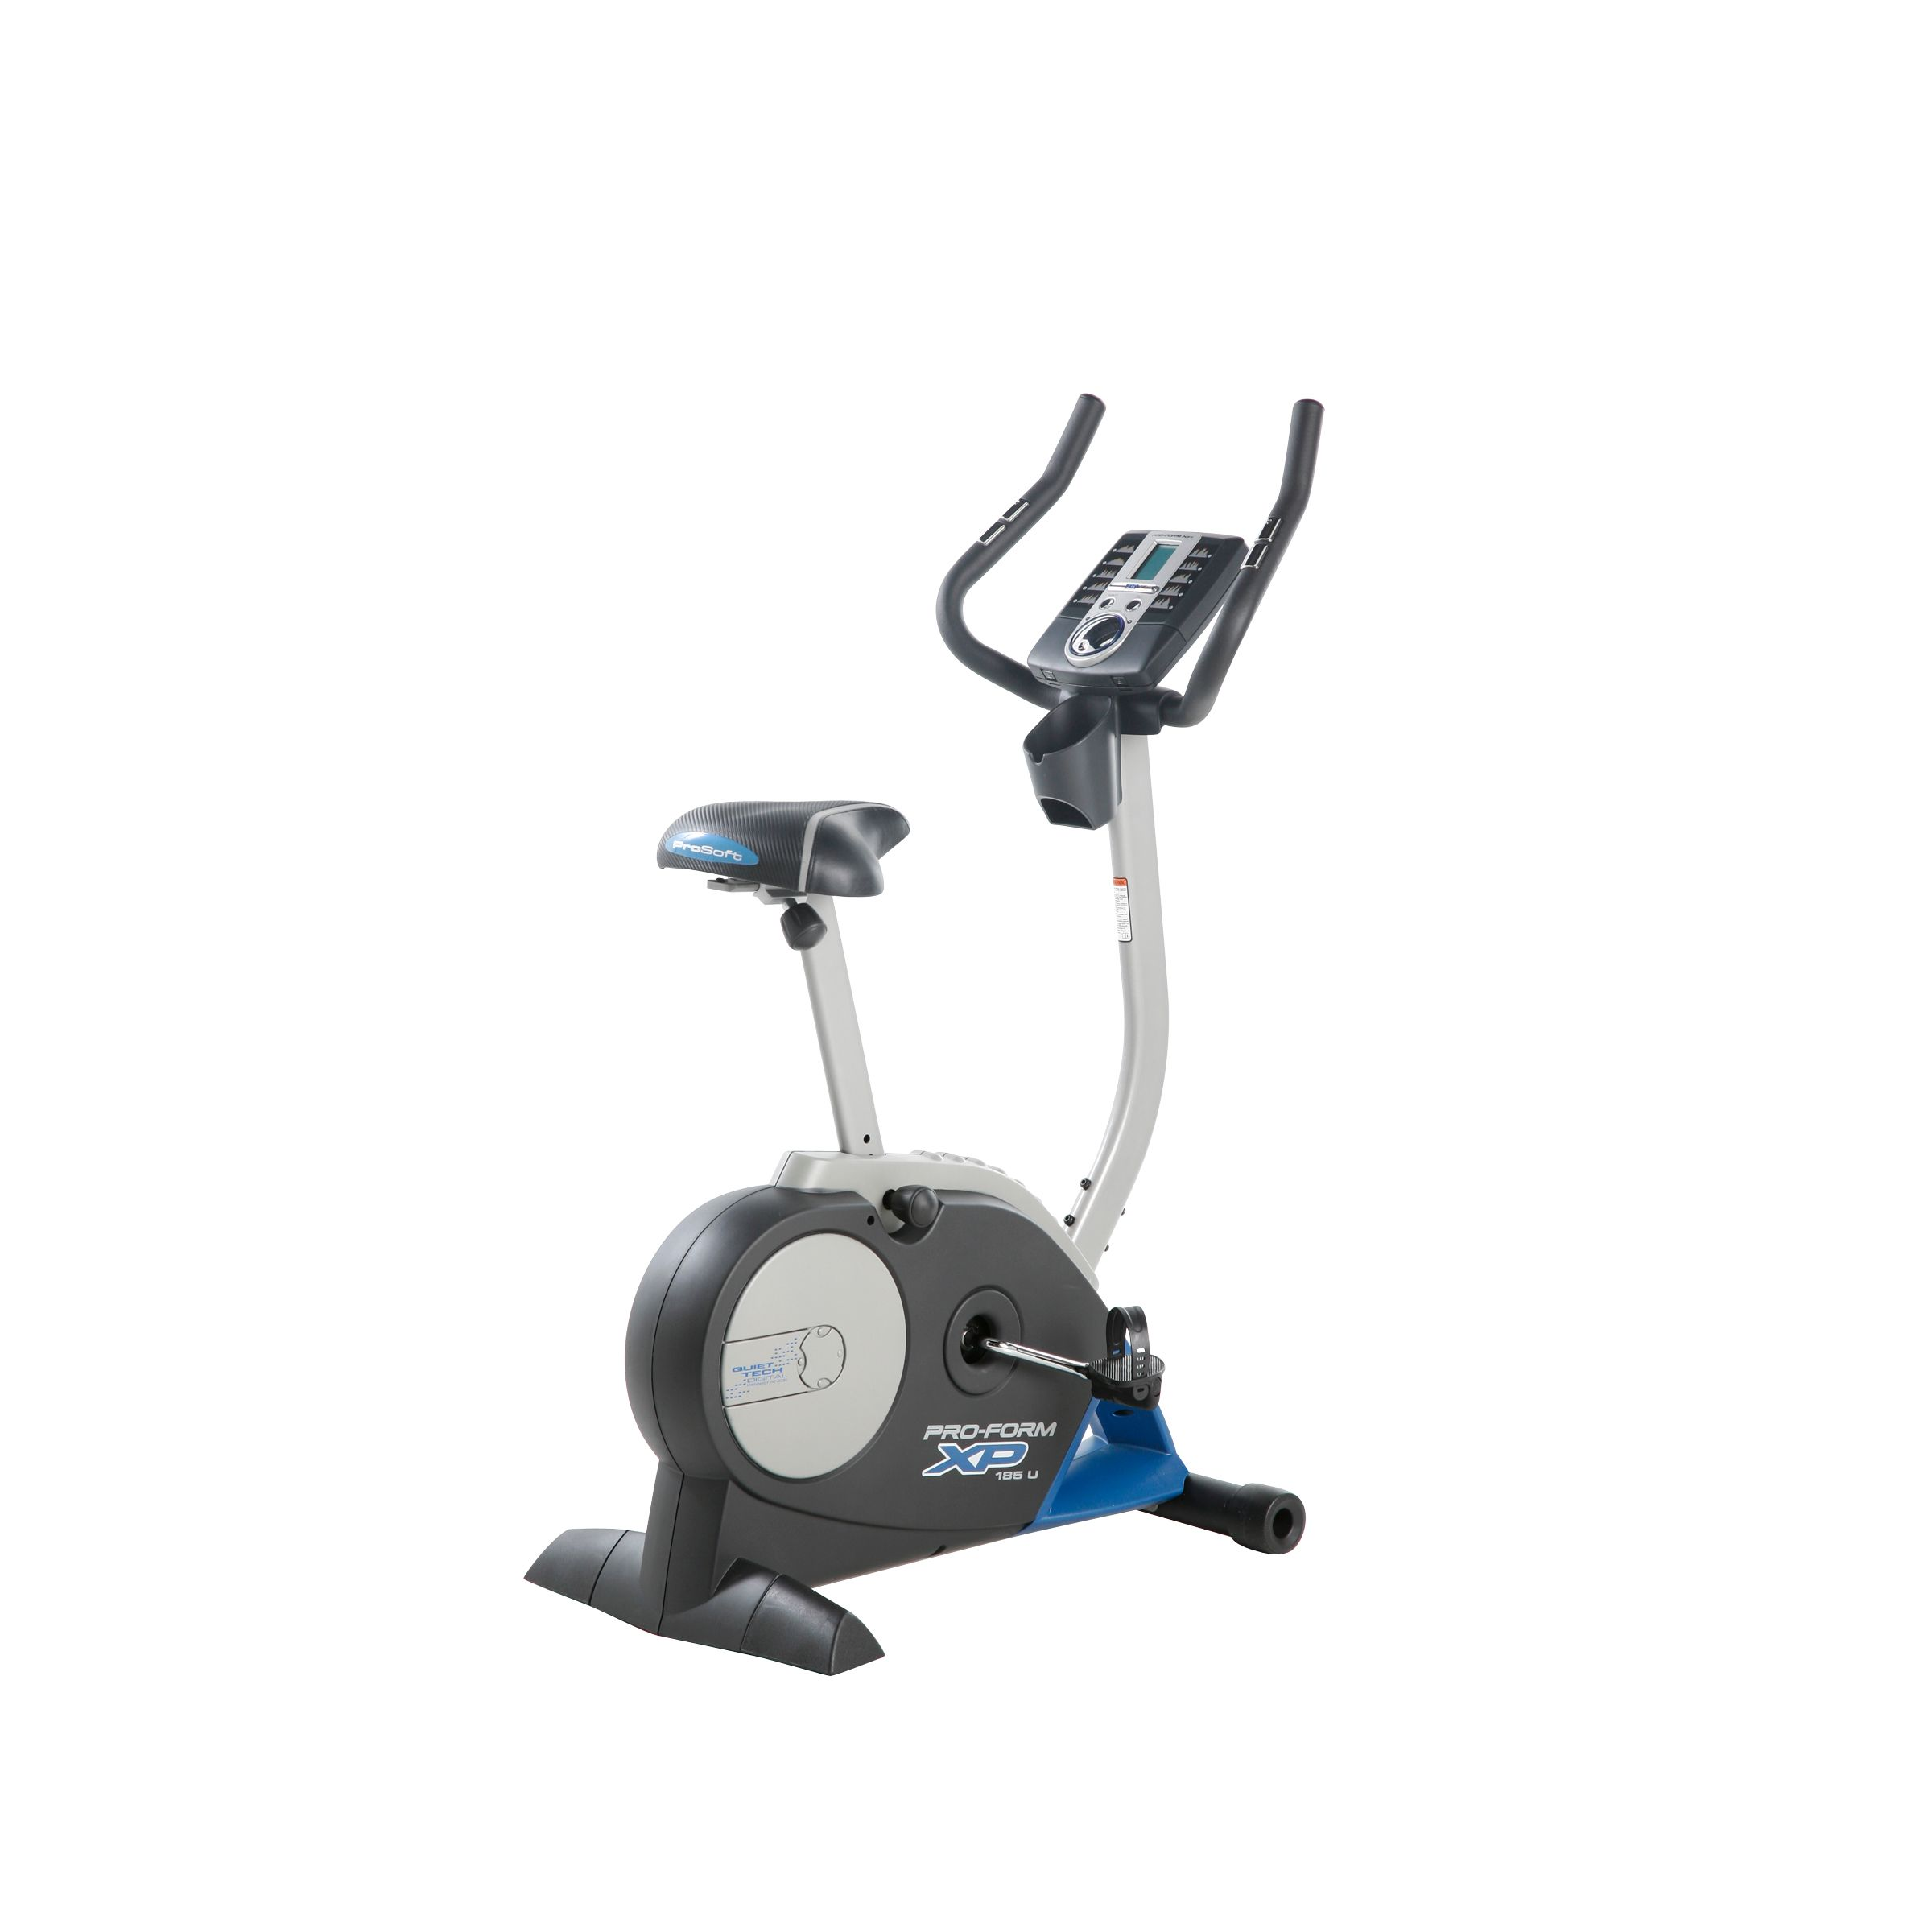gym_bike: (494, 349, 1364, 1713)
